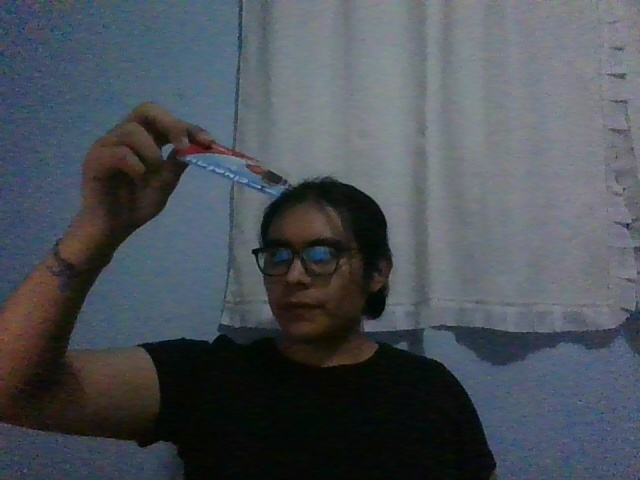tarjeta: (174, 139, 293, 200)
